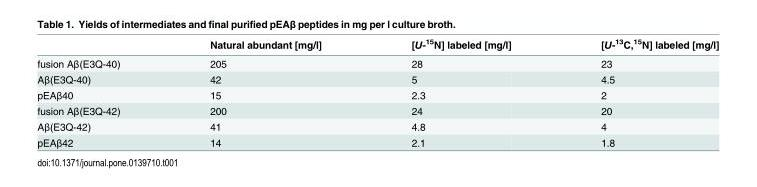table: (36, 36, 718, 147)
table column: (164, 36, 365, 147), (365, 36, 555, 147), (555, 36, 718, 147), (36, 36, 164, 147)
table column header: (36, 36, 718, 53)
table row: (36, 53, 718, 71), (36, 36, 718, 53), (36, 86, 718, 102), (36, 102, 718, 118), (36, 118, 718, 134), (36, 71, 718, 86), (36, 134, 718, 147)
